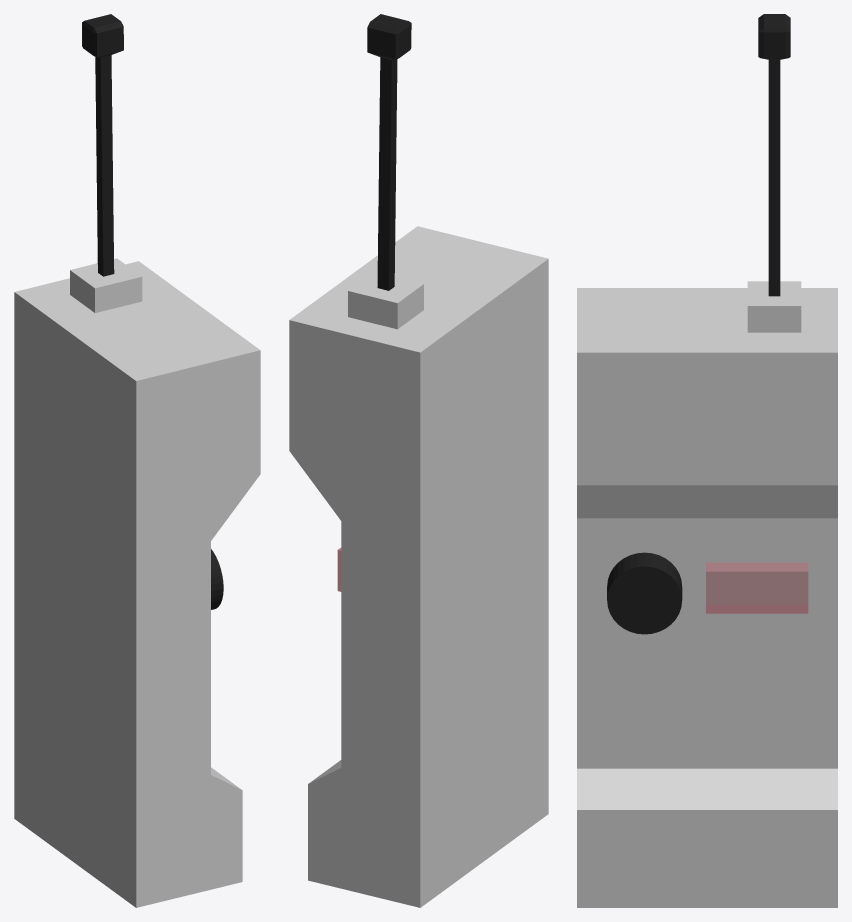
The picture shows the model from 3 angles, left to right: view 1: azimuth 30°, elevation 25°; view 2: azimuth 150°, elevation 25°; view 3: azimuth 270°, elevation 25°; orthographic projection. The views are drawn at different scales.
Visible parts, largest first — view 1: Cube, Cylinder; view 2: Cube; view 3: Cube, Cube.001, Cylinder.
Boxes of the visible parts, x1,y1,x2,y2 form: Cube: [14, 14, 260, 907]; Cylinder: [211, 549, 223, 609]; Cube: [289, 14, 548, 907]; Cube: [577, 14, 837, 907]; Cube.001: [706, 562, 808, 613]; Cylinder: [607, 552, 682, 634].
Bounding box in the file's own units: 166 × 1030 × 282.
